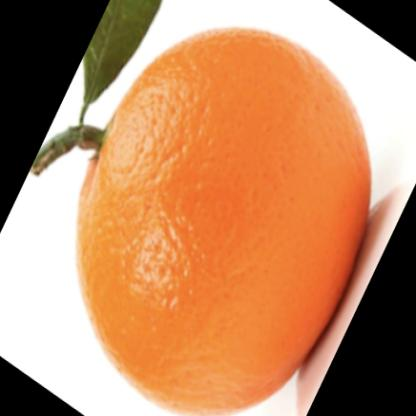fresh: (72, 27, 374, 416)
